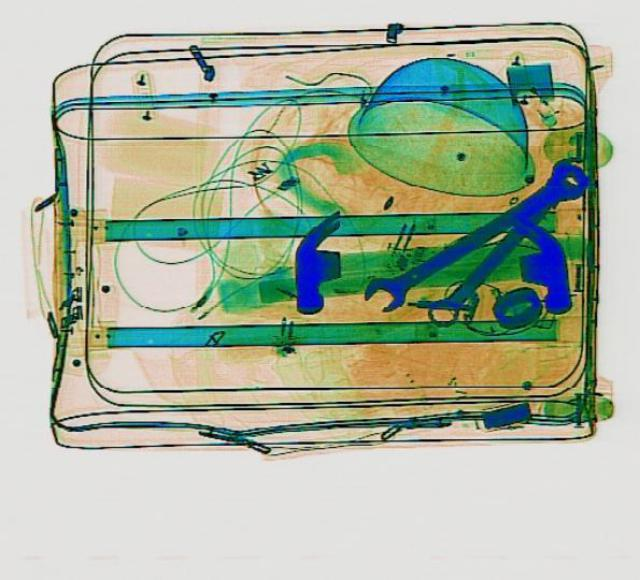Wrench: (354, 150, 600, 316), (418, 152, 592, 330)
